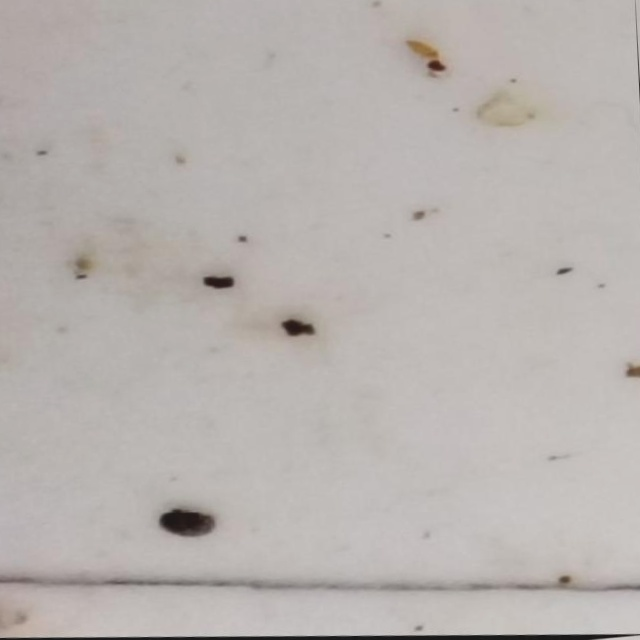varroa: (159, 514, 217, 548)
